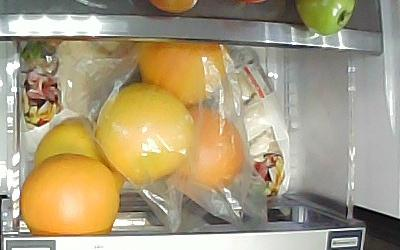grapefruit: (20, 153, 120, 236), (35, 116, 124, 188)
grapefruit_vinyl: (96, 82, 193, 185), (174, 105, 243, 192), (138, 41, 233, 102)
